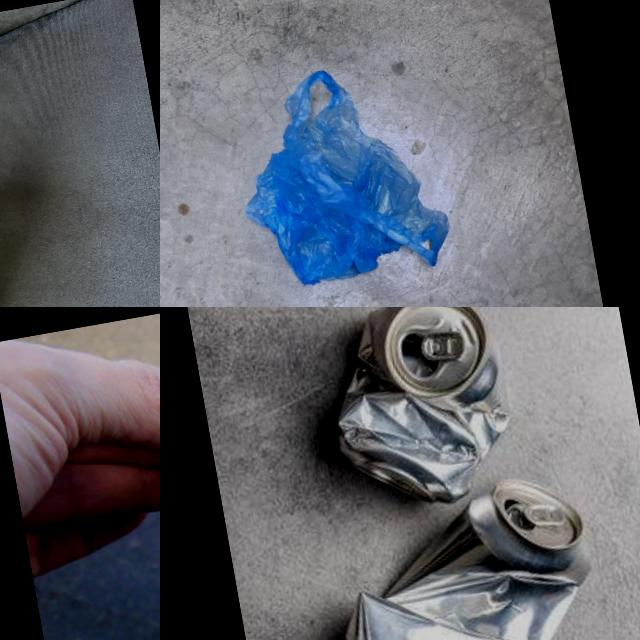aba de lata: (418, 328, 467, 366), (520, 498, 568, 531)
lata: (320, 464, 616, 640), (311, 307, 522, 520)
sacola plástica: (219, 51, 456, 300)
